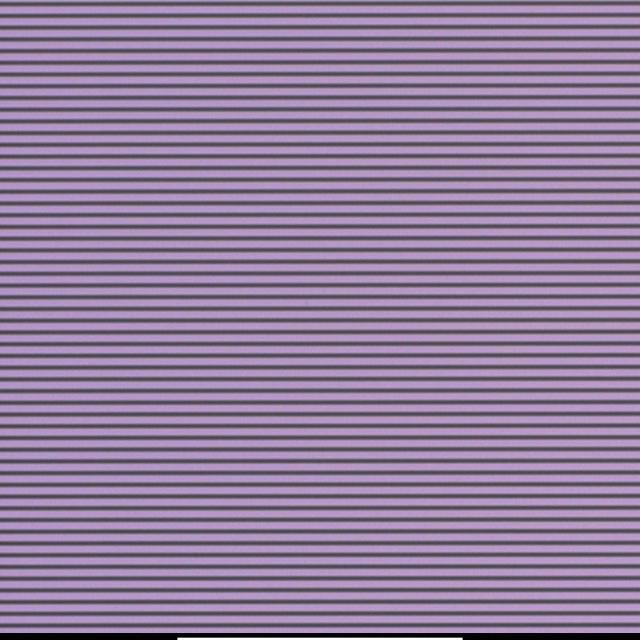nonvisual: (298, 305, 302, 310)
